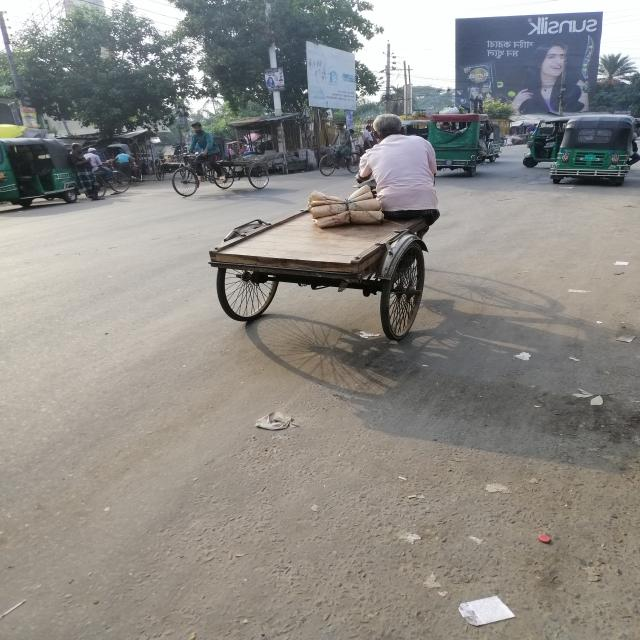CNG: (543, 108, 639, 196)
Van: (206, 199, 456, 354)
